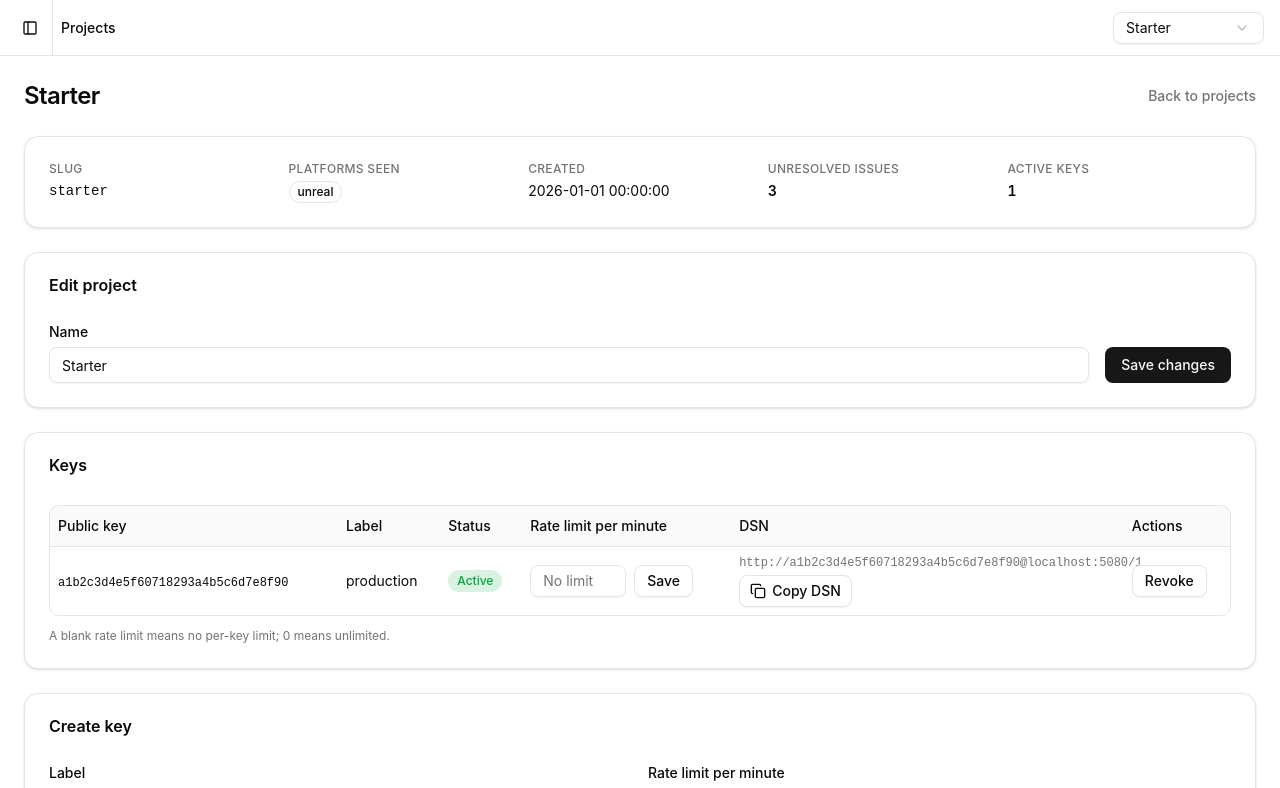
Test case: App › reloads the project selector after a rename on the detail page
Check: the heading "Starter" is shown, box [24,80,100,112]
Replace the text in the field labelled "Name" with "Starter Renamed". click: (569, 365)
box: [49,347,1089,383]
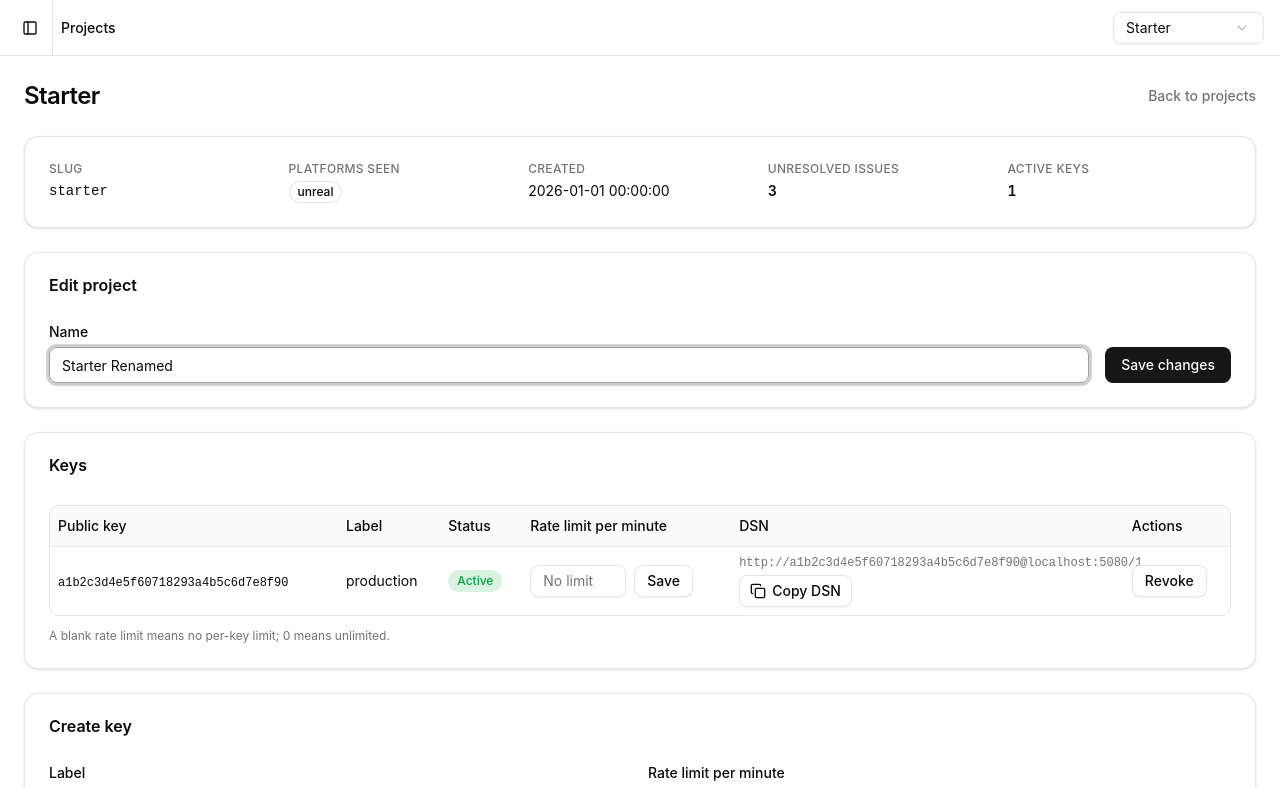
Click the button "Save changes". click: click(1168, 365)
box: [1105,347,1231,383]
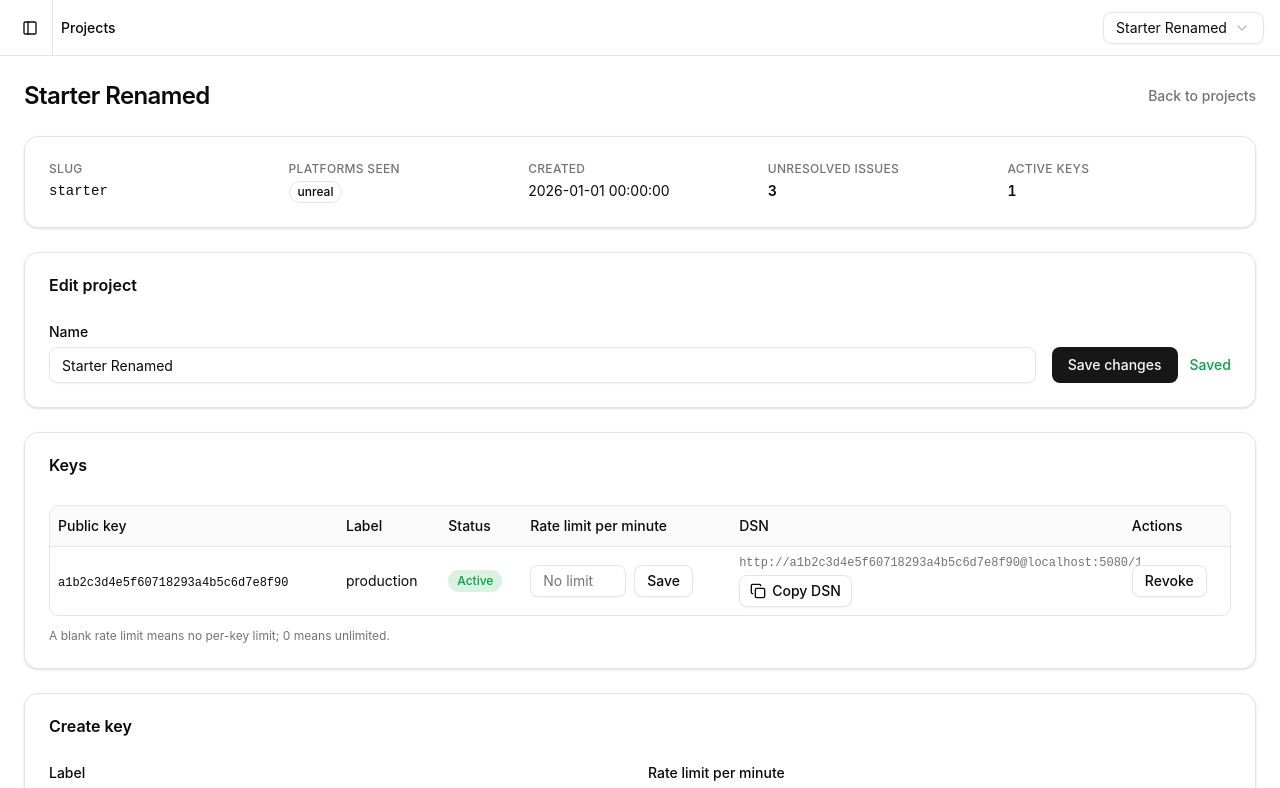
Check: the heading "Starter Renamed" is shown, box [24,80,210,112]
Check: the dropdown named "Project" shows "Starter Renamed", box [1103,12,1264,44]
